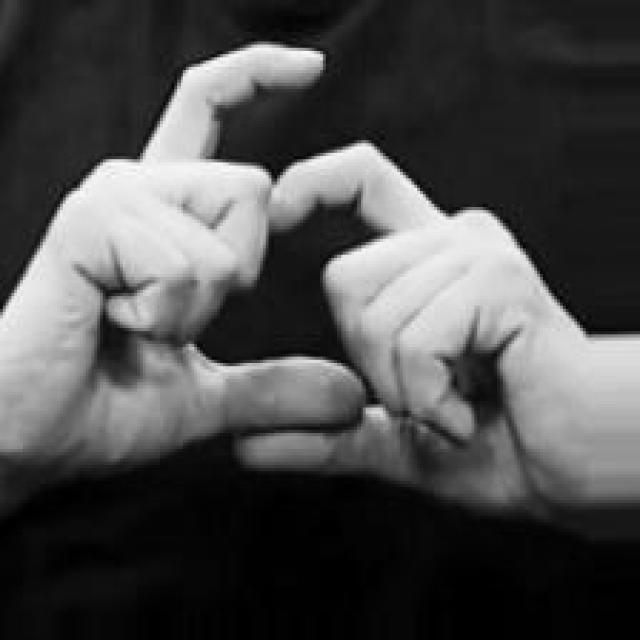G: (5, 43, 640, 526)
